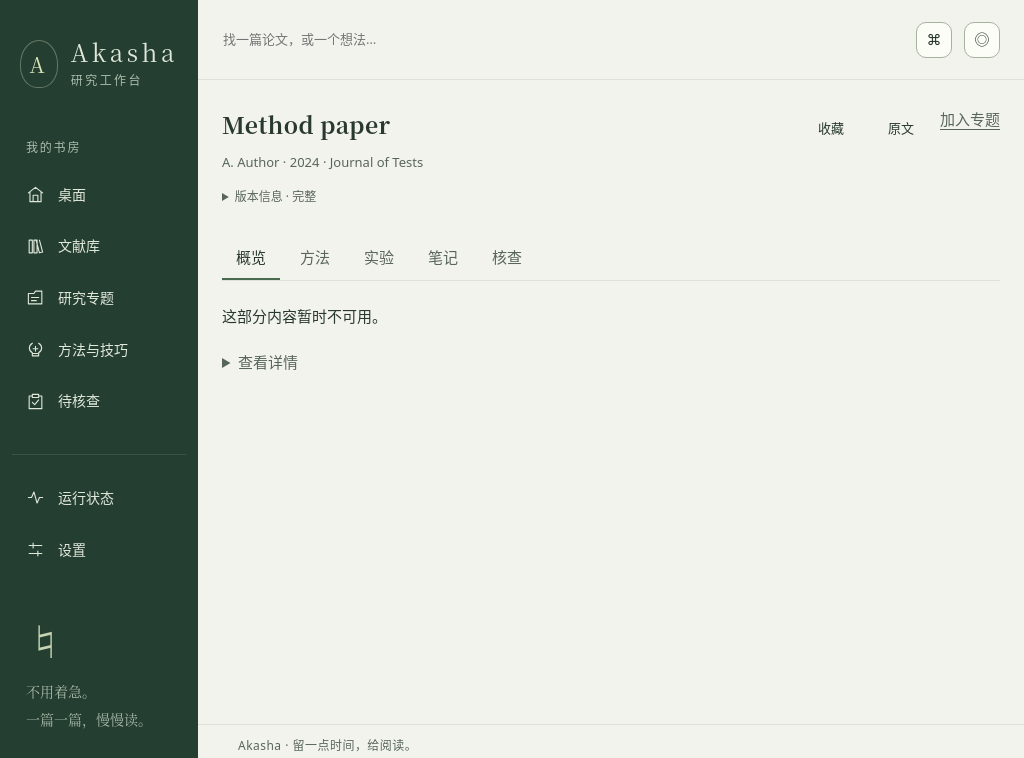
Test: UX-026 method flow only shows stored structure › draws nothing when the backend stored no method structure
expect the element with test id "pinned-version" is shown: met, box [235,188,316,205]
Click the tab "方法".
click(315, 259)  # box [286,238,344,280]
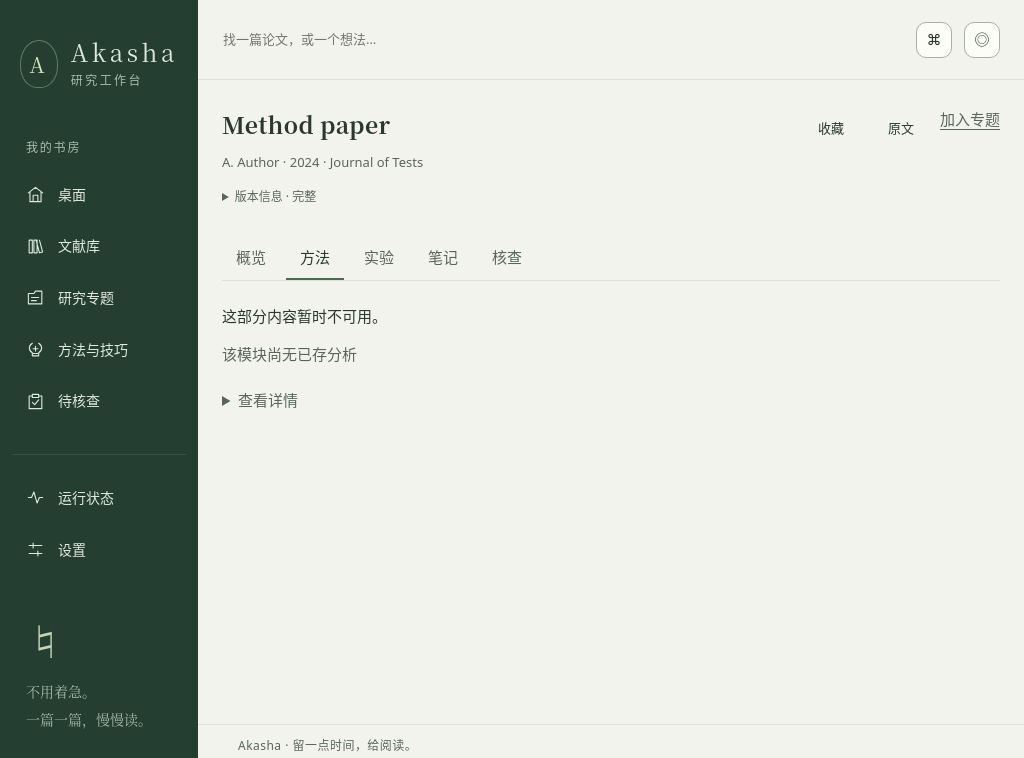
expect the text "该模块尚无已存分析" is shown: met, box [222,344,357,364]
